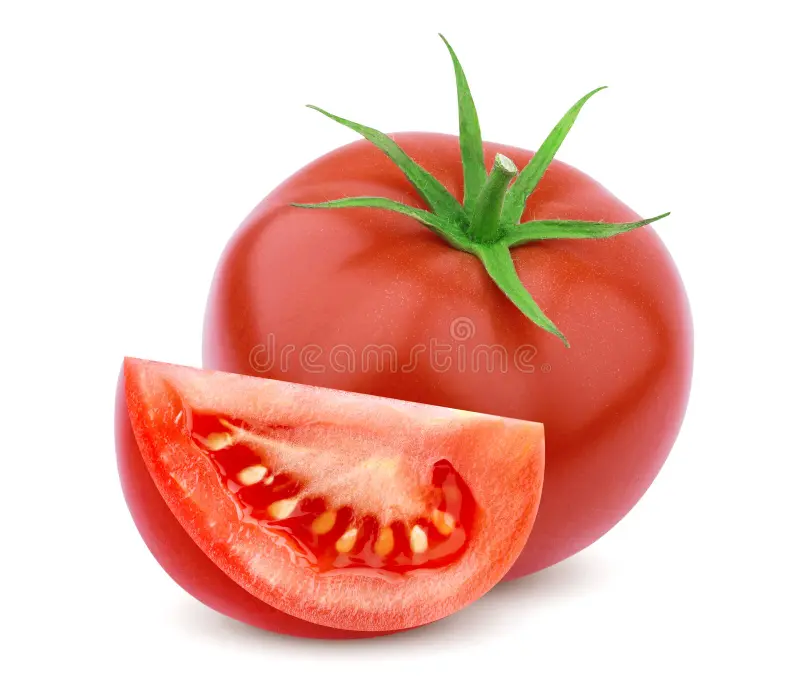tomato: (86, 340, 560, 664)
